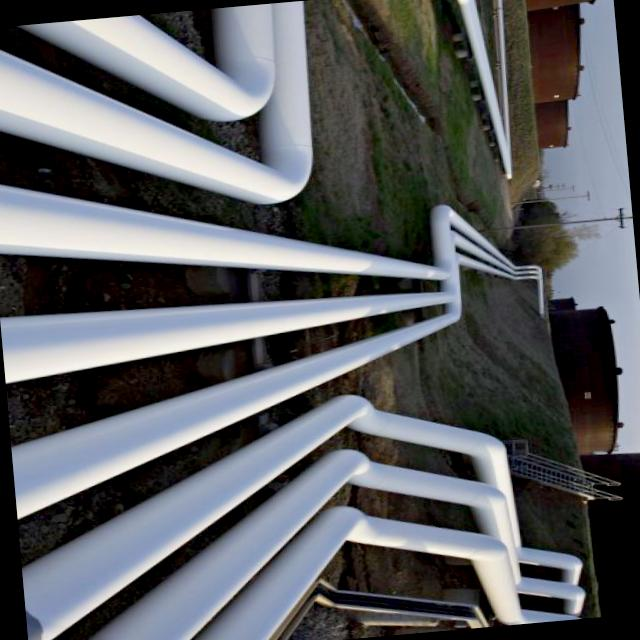gas: (22, 396, 582, 640), (10, 302, 461, 519), (91, 451, 582, 640), (0, 0, 311, 206), (0, 188, 541, 281), (197, 508, 576, 640), (0, 281, 458, 382), (19, 3, 273, 121), (454, 0, 513, 179), (455, 232, 540, 274), (461, 257, 539, 280)
